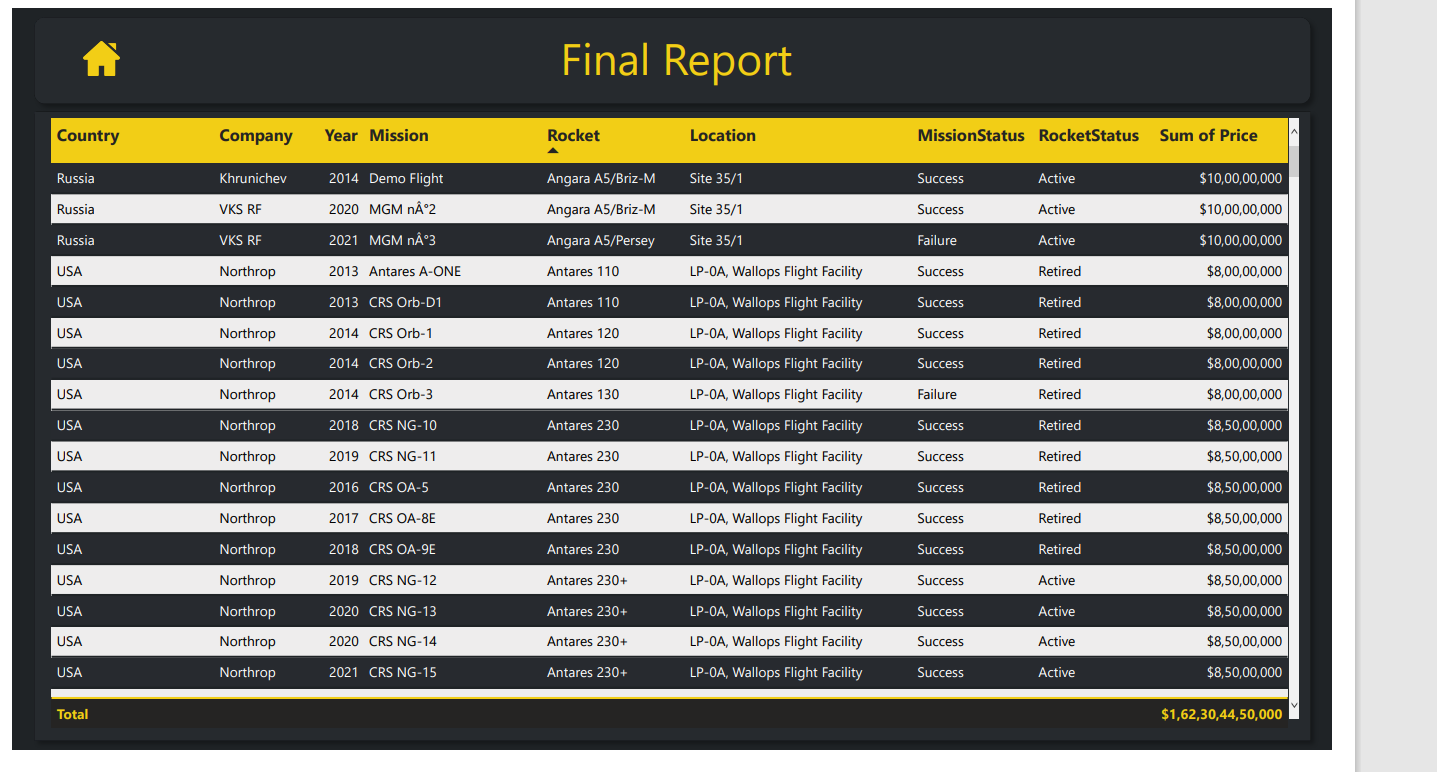

This screenshot's page, from the dashboard's own definition file:
{"tool":"powerbi","page":{"name":"Data table","canvas":[1280,720],"ordinal":1},"visuals":[{"type":"shape","box":[12.2,91.5,1256.1,628],"z":0},{"type":"shape","box":[12.2,0,1256.1,101.2],"z":1000},{"type":"tableEx","fields":{"Values":["missions.Country","missions.Company","Date Table.Date.Variation.Date Hierarchy.Year","missions.Mission","missions.Rocket","missions.Location","missions.MissionStatus","missions.RocketStatus","Sum(missions.Price)"]},"box":[31.7,101.2,1222,602.4],"z":3000},{"type":"textbox","box":[526.8,13.4,243.9,74.4],"z":3001},{"type":"image","box":[63.4,25.6,45.1,45.1],"z":3002}]}

Visuals, with their boxes on the page's 1280x720 design canvas (x1, y1, x2, y2). These are canvas units, not pixel positions in the 1437x772 screenshot, which may show the page scaled, cropped or inside an application window:
shape: 12 92 1268 720
shape: 12 0 1268 101
tableEx - missions.Country x missions.Company: 32 101 1254 704
textbox: 527 13 771 88
image: 63 26 108 71
